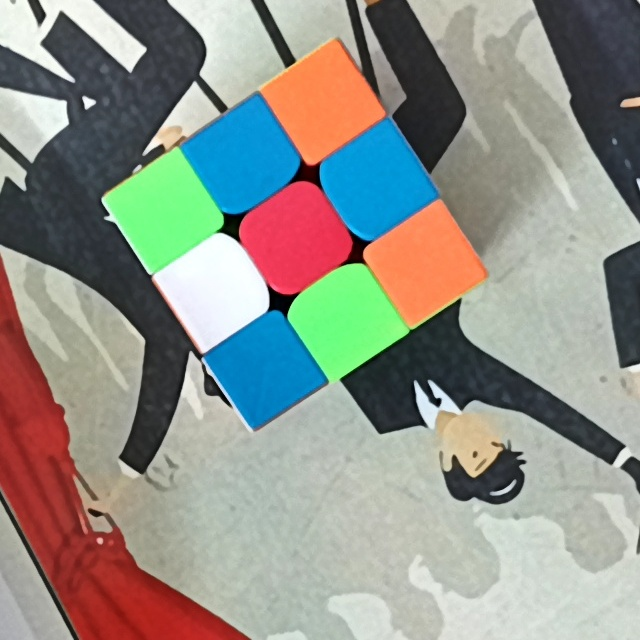tile: (395, 228, 456, 299), (292, 71, 356, 135), (343, 151, 408, 214), (262, 207, 327, 270), (129, 181, 195, 243), (234, 336, 299, 397), (207, 130, 275, 188), (312, 290, 379, 348), (185, 256, 245, 319)
